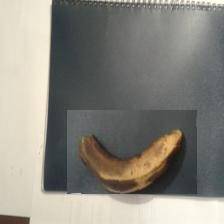Banana Rotten: (68, 111, 198, 195)
